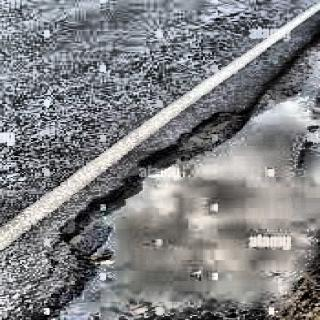pothole: (41, 102, 320, 319)
